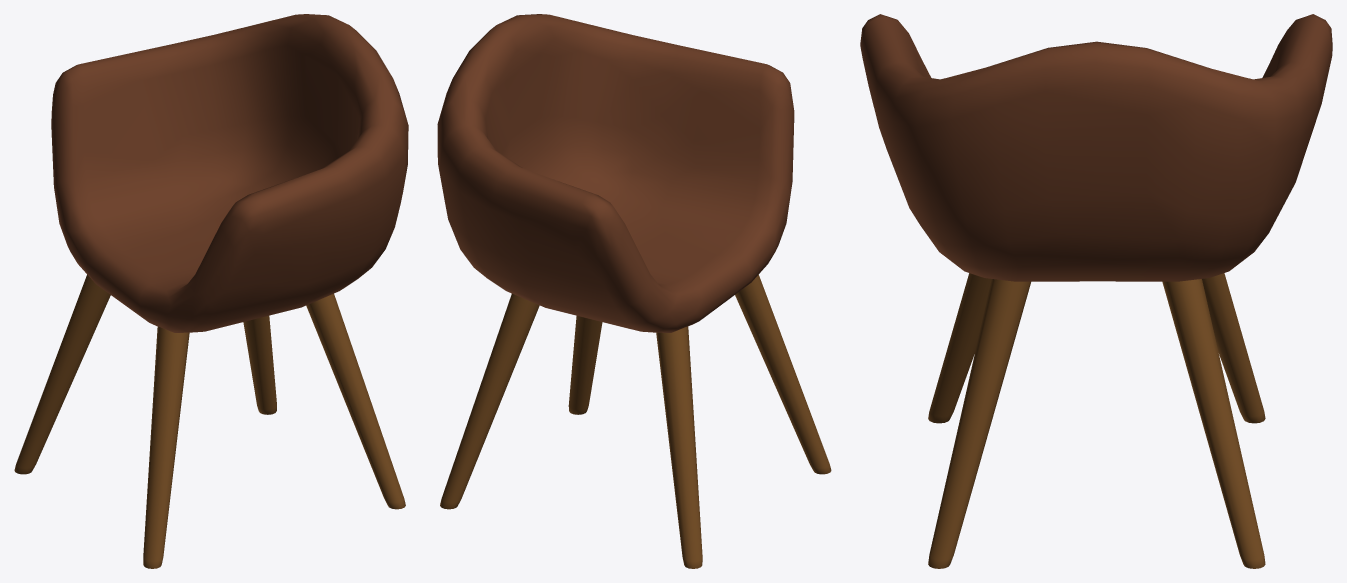
File: chair_06_brown.fbx
3 views of the same model, side by side, from view 1: azimuth 30°, elevation 25°; view 2: azimuth 150°, elevation 25°; view 3: azimuth 270°, elevation 25° (orthographic). The views are drawn at different scales.
Parts seen in each view (by area): view 1: chair_06_brown; view 2: chair_06_brown; view 3: chair_06_brown.
Part boxes in pixels (<box>): chair_06_brown: <box>14,14,408,568</box>; chair_06_brown: <box>437,14,831,568</box>; chair_06_brown: <box>860,14,1332,568</box>.
Size of the model in its own units: 55.35 by 80.79 by 65.62.
Materials: 1 (1 with a texture image).
